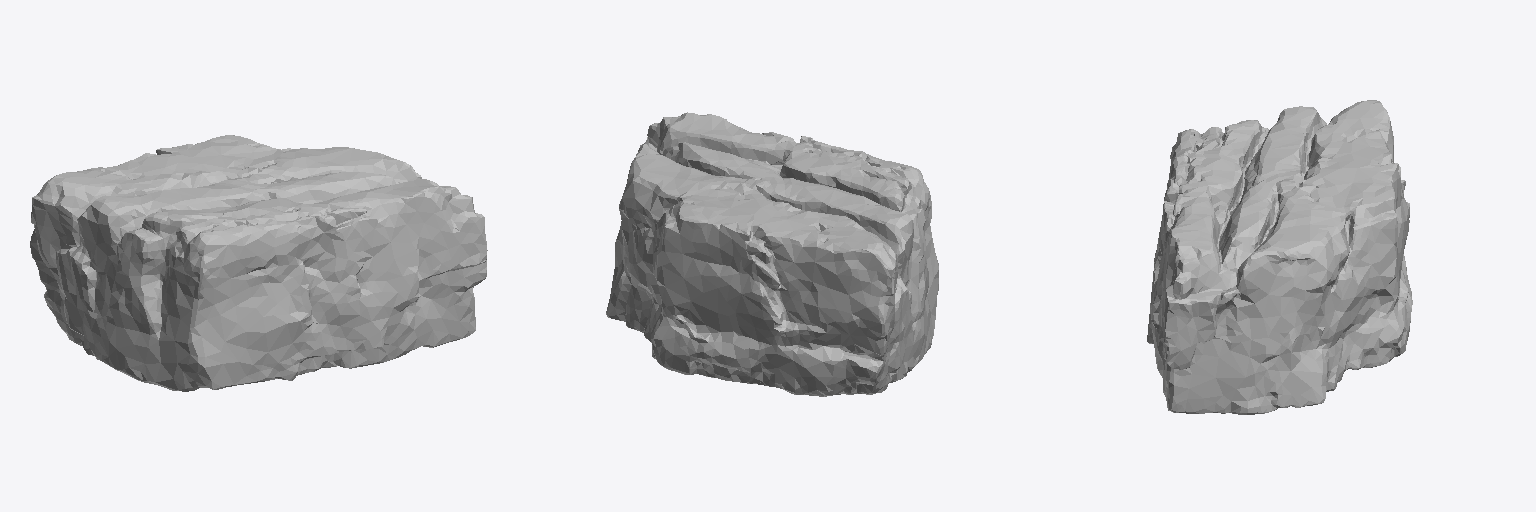
File: stone_2.obj
The picture shows the model from 3 angles: view 1: azimuth 30°, elevation 25°; view 2: azimuth 150°, elevation 25°; view 3: azimuth 270°, elevation 25°; orthographic projection.
Parts seen in each view (by area): view 1: Aset_nature_rock_M_uisjbbis_LOD1; view 2: Aset_nature_rock_M_uisjbbis_LOD1; view 3: Aset_nature_rock_M_uisjbbis_LOD1.
Boxes of the visible parts, <box> form: Aset_nature_rock_M_uisjbbis_LOD1: <box>30,135,487,391</box>; Aset_nature_rock_M_uisjbbis_LOD1: <box>606,112,938,396</box>; Aset_nature_rock_M_uisjbbis_LOD1: <box>1147,100,1412,414</box>.
Bounding box in the file's own units: 1.19 × 0.5243 × 0.7834.